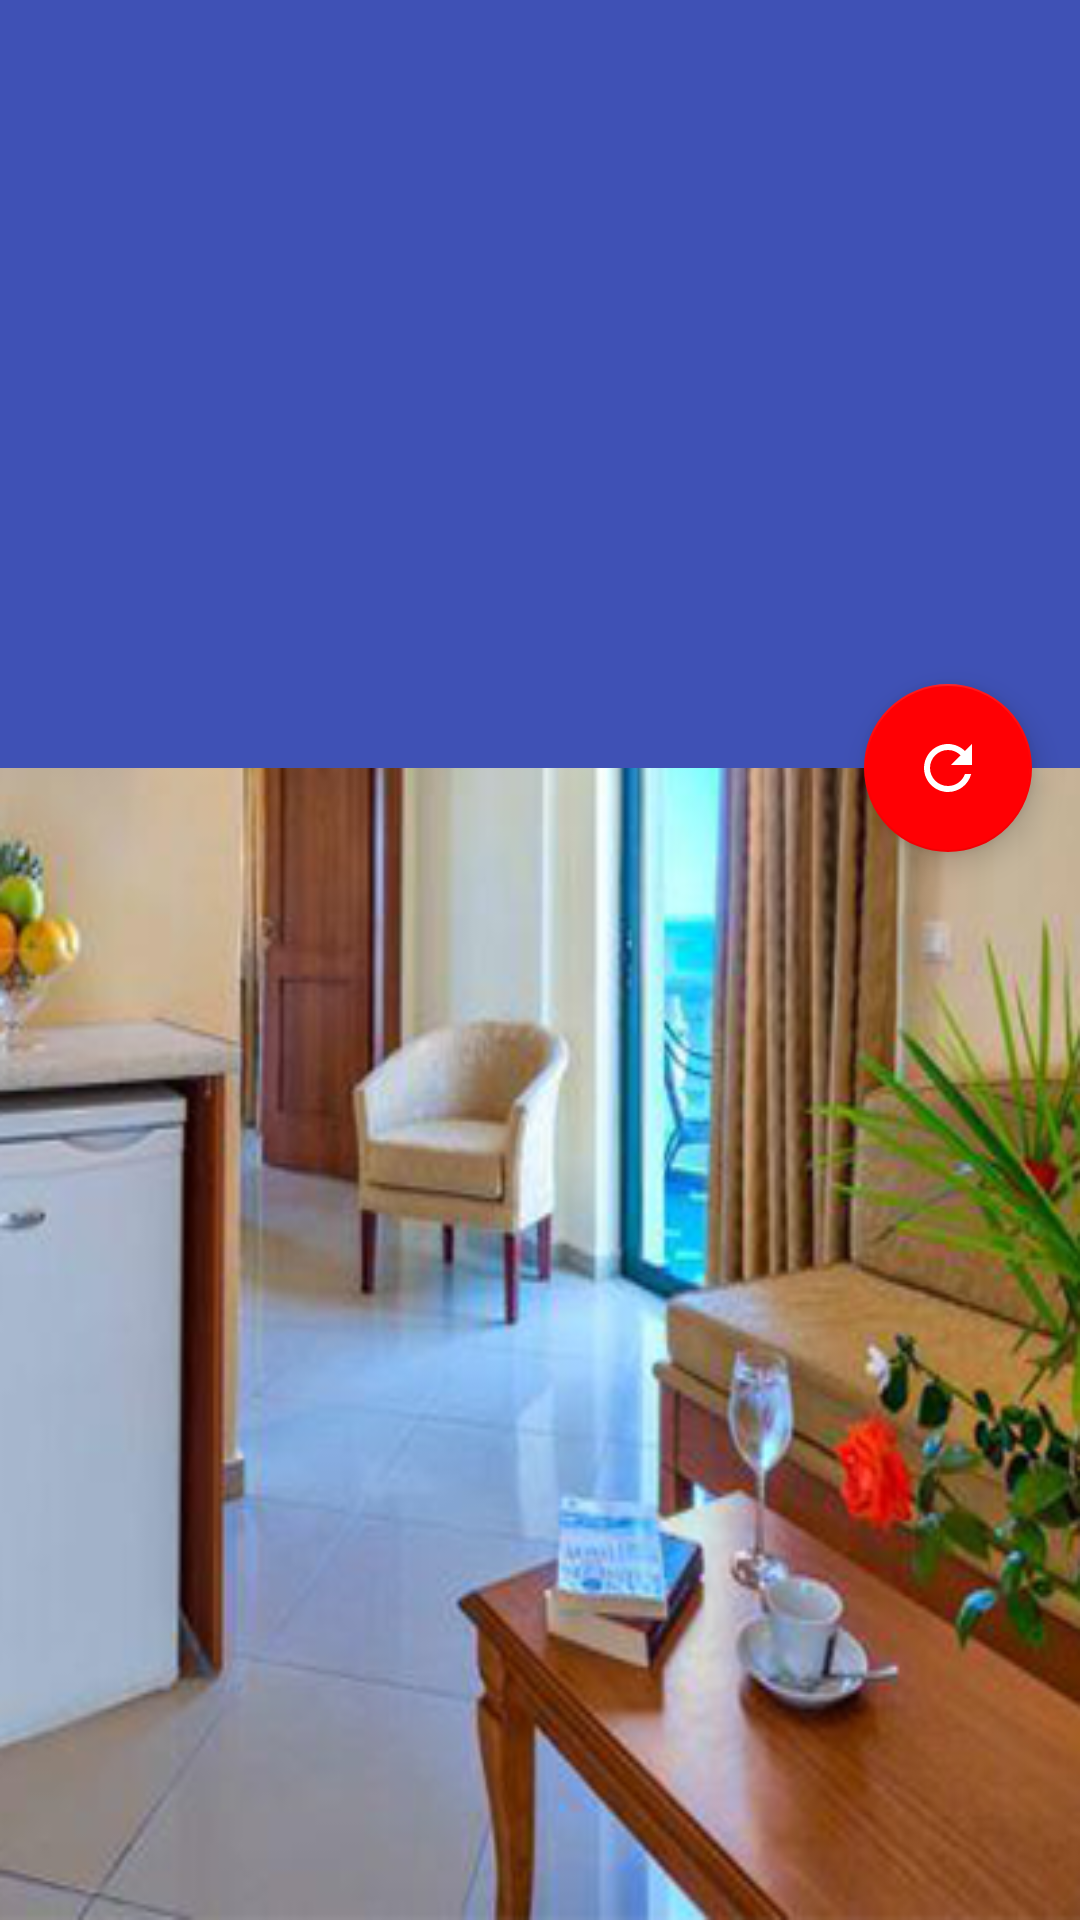

Where to tap for icons on this 1080x1920 app screen, as [x,y]:
reset: [948,768]
